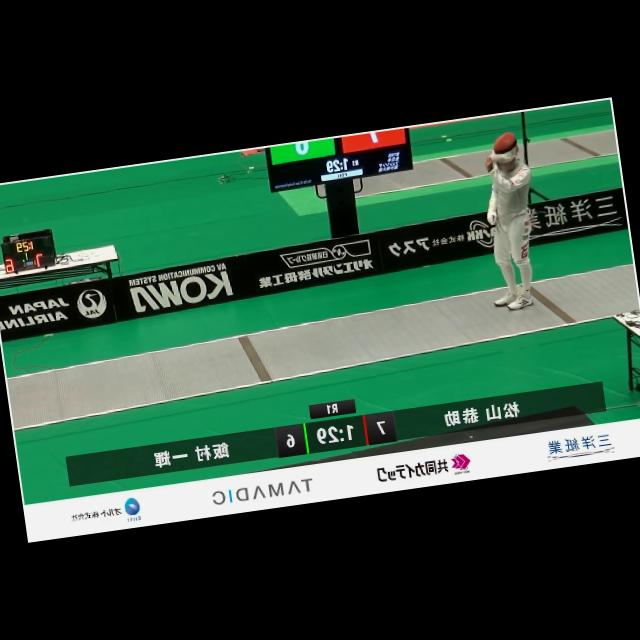blade: (491, 213, 520, 290)
